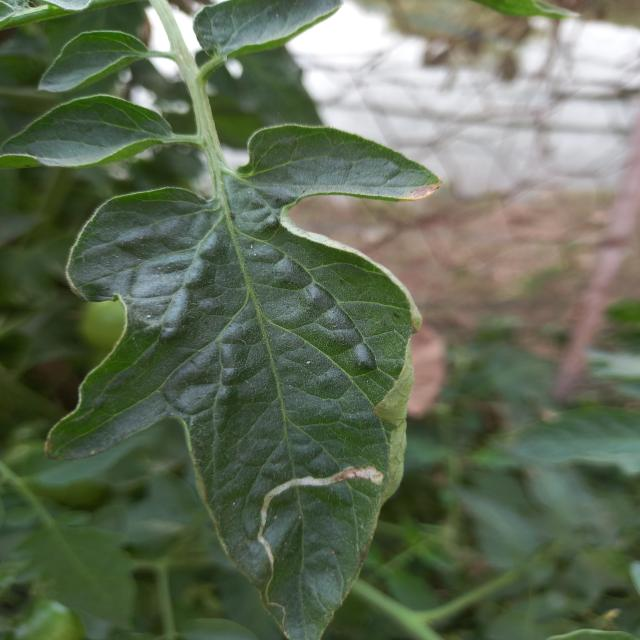Tuta absoluta: (233, 429, 387, 570)
